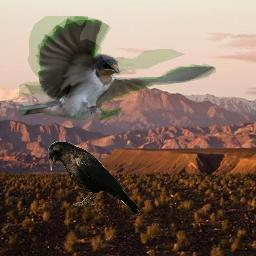Crow: (48, 141, 141, 215)
Swallow: (19, 16, 216, 120)
